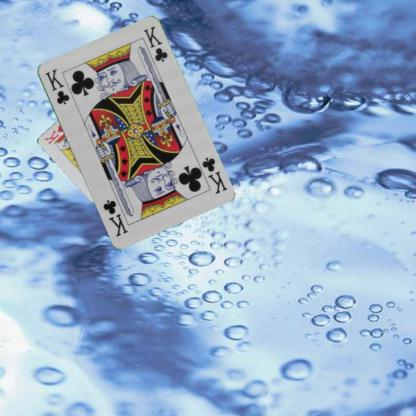Kc: (199, 154, 228, 196), (42, 66, 71, 106)
